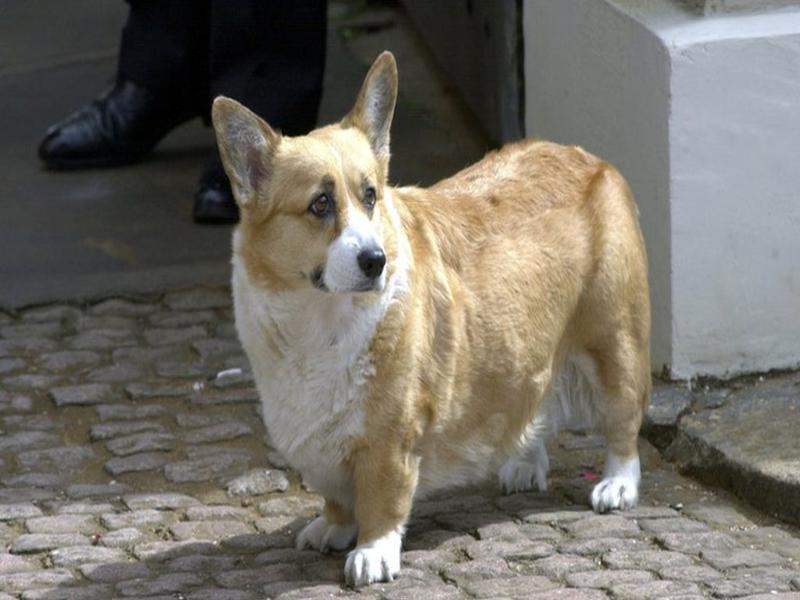corgi: (209, 49, 403, 294)
